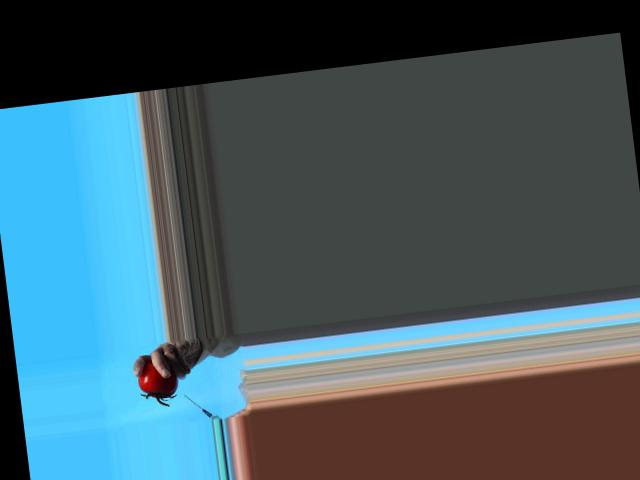tomato: (135, 357, 179, 400)
